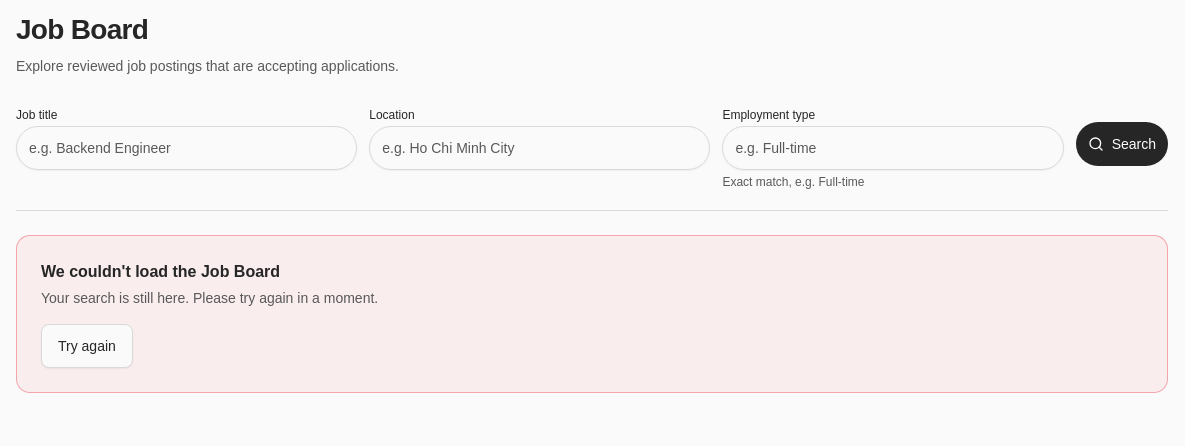
Scenario: JobBoard › shows an error with a retry
expect the message shows "couldn't load the Job Board": met, box [41,263,280,280]
Click the button "Try again" at x=87, y=346, box [41,324,133,368]
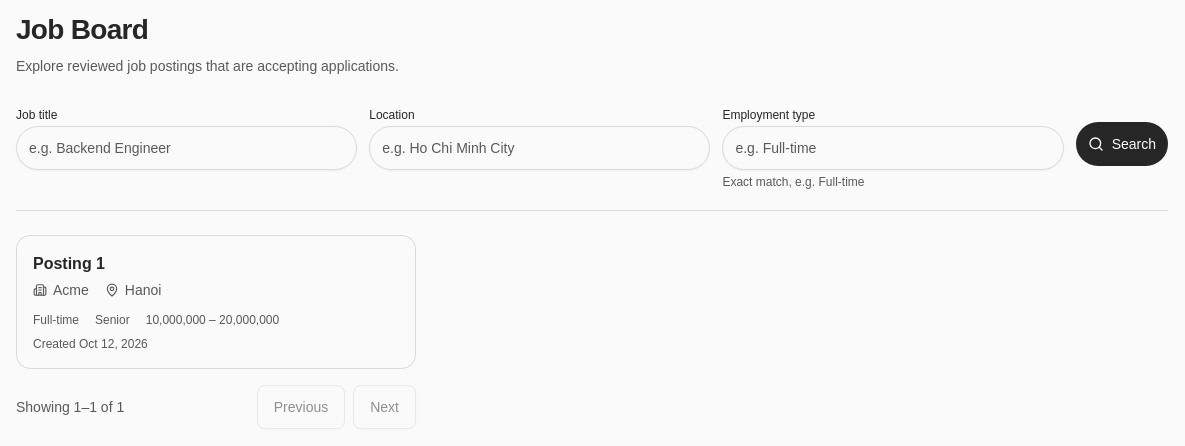
expect the link "Posting 1" is shown: met, box [33,255,105,272]
